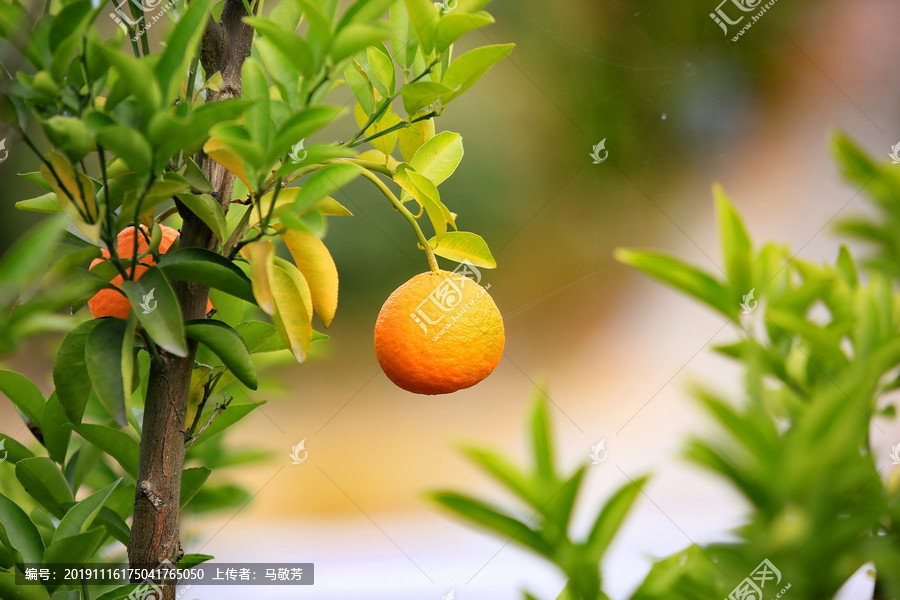orange: (372, 270, 506, 397), (85, 224, 217, 342)
